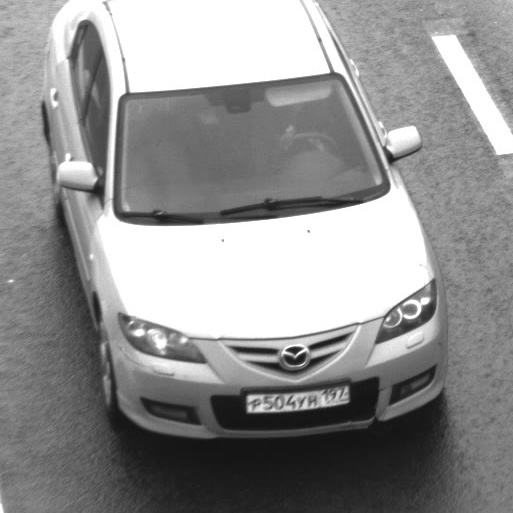plate: (236, 375, 357, 421)
